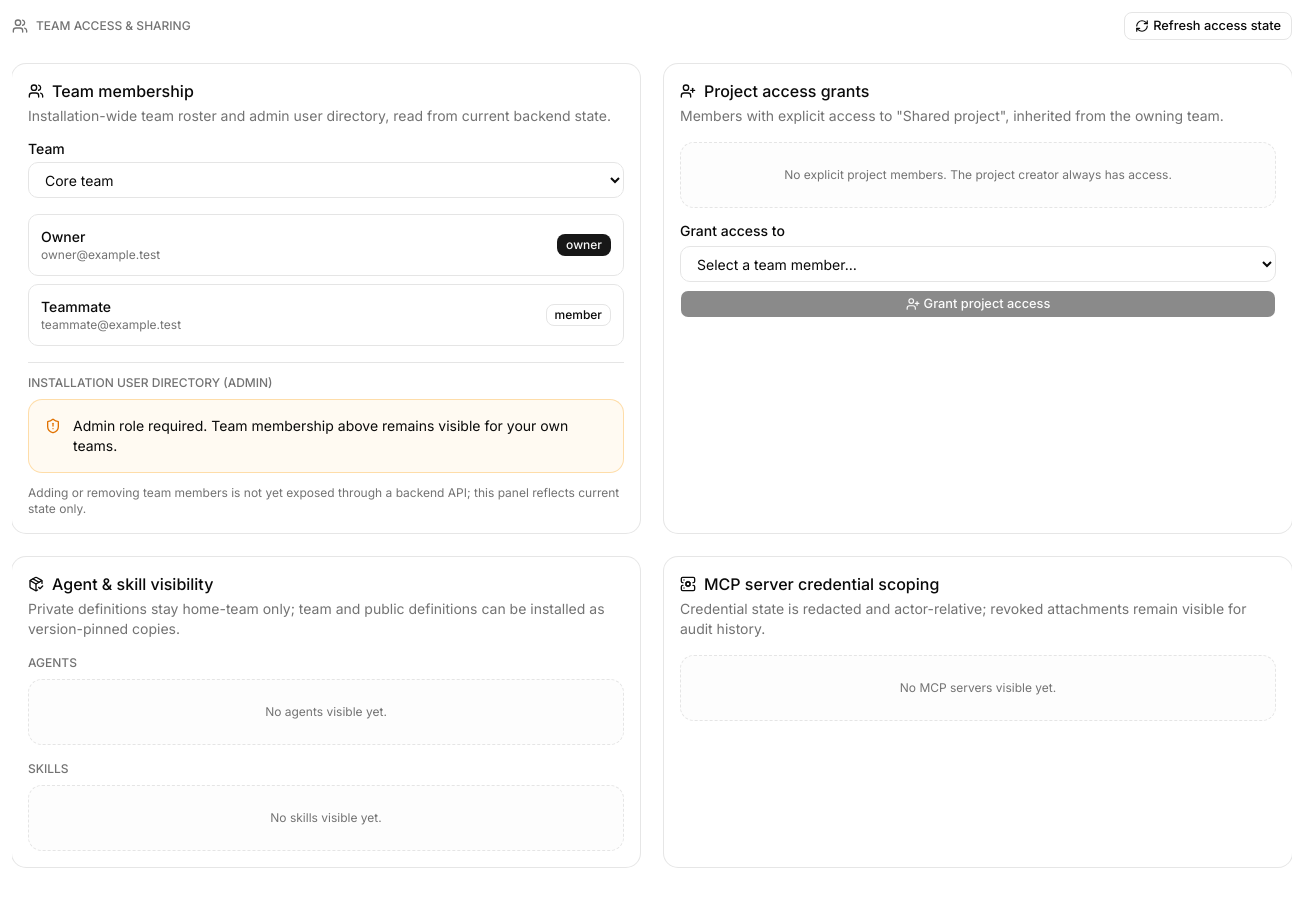
Test: AccessWorkspace › degrades to a forbidden notice when granting project access is denied
The image size is (1304, 912).
Select "Teammate (teammate@example.test)" in the dropdown labelled "Grant access to" at (978, 264), box [680,246,1276,282]
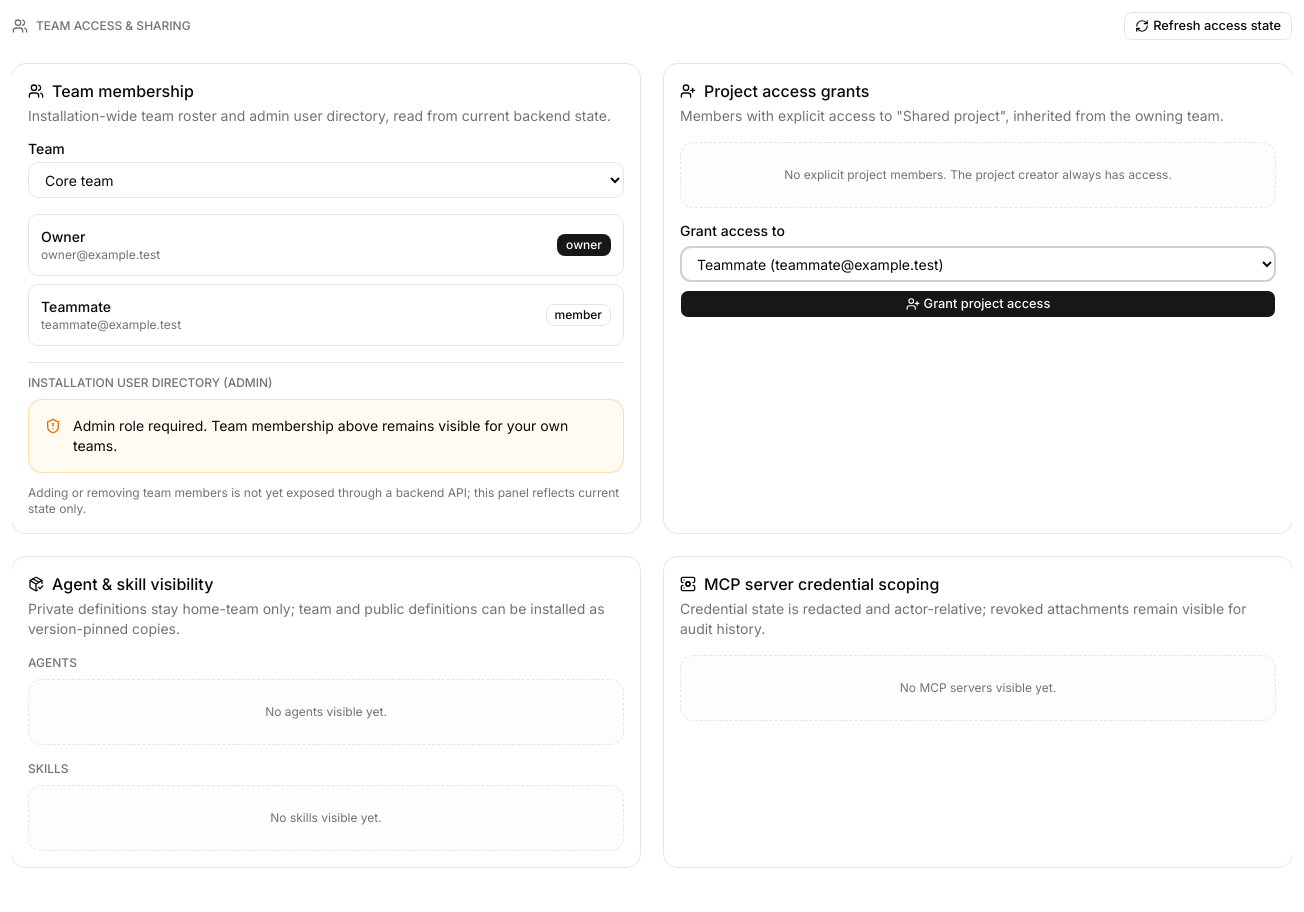
Click the button "Grant project access" at (978, 304), box [680,290,1276,318]
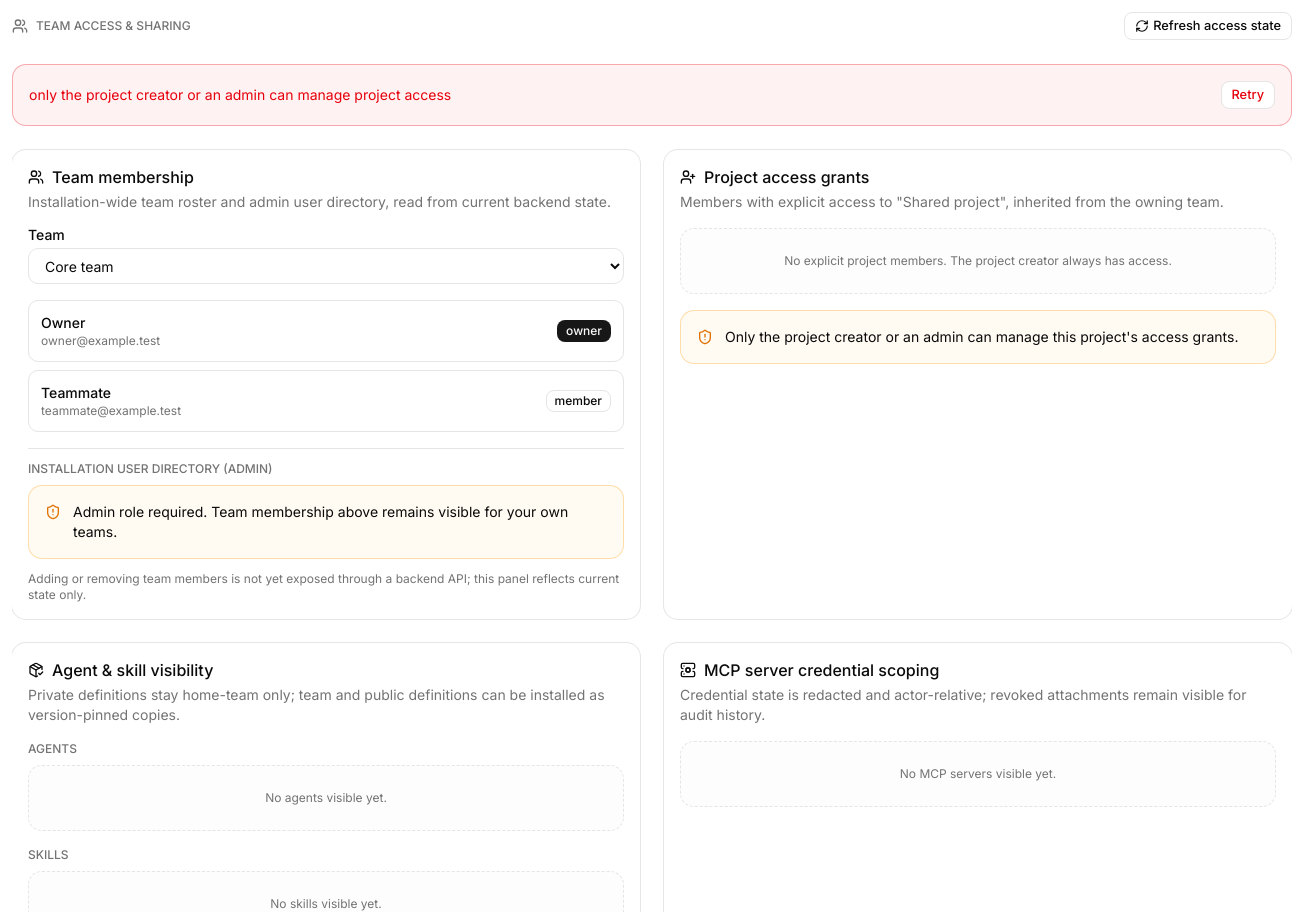
Expected: the text "Only the project creator or an admin can manage" is shown, [725,328,1238,345]
